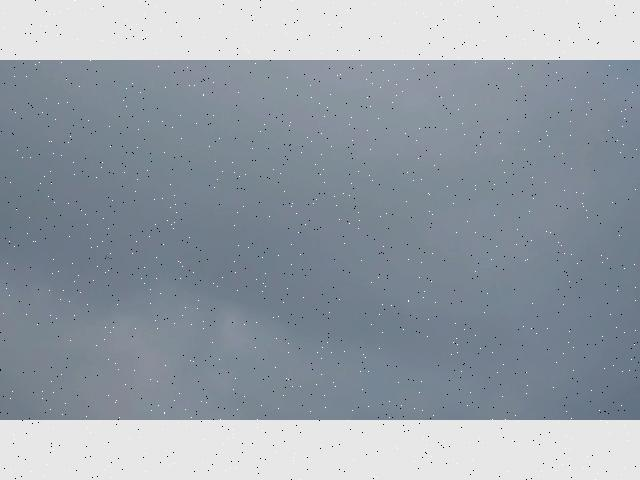Anti-Drone: (104, 254, 112, 260)
